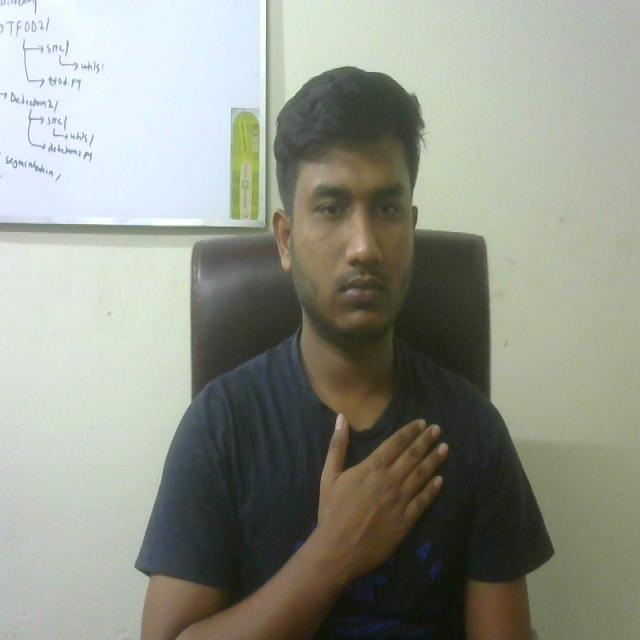Please: (306, 399, 455, 569)
